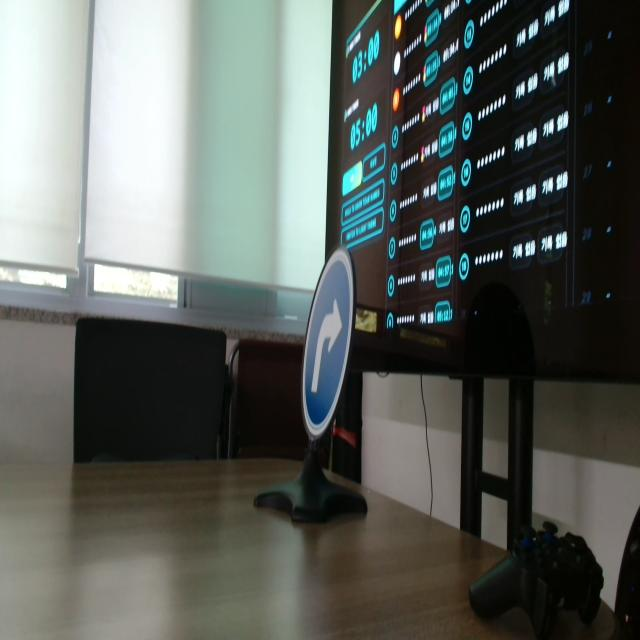right_dierection: (295, 241, 358, 438)
